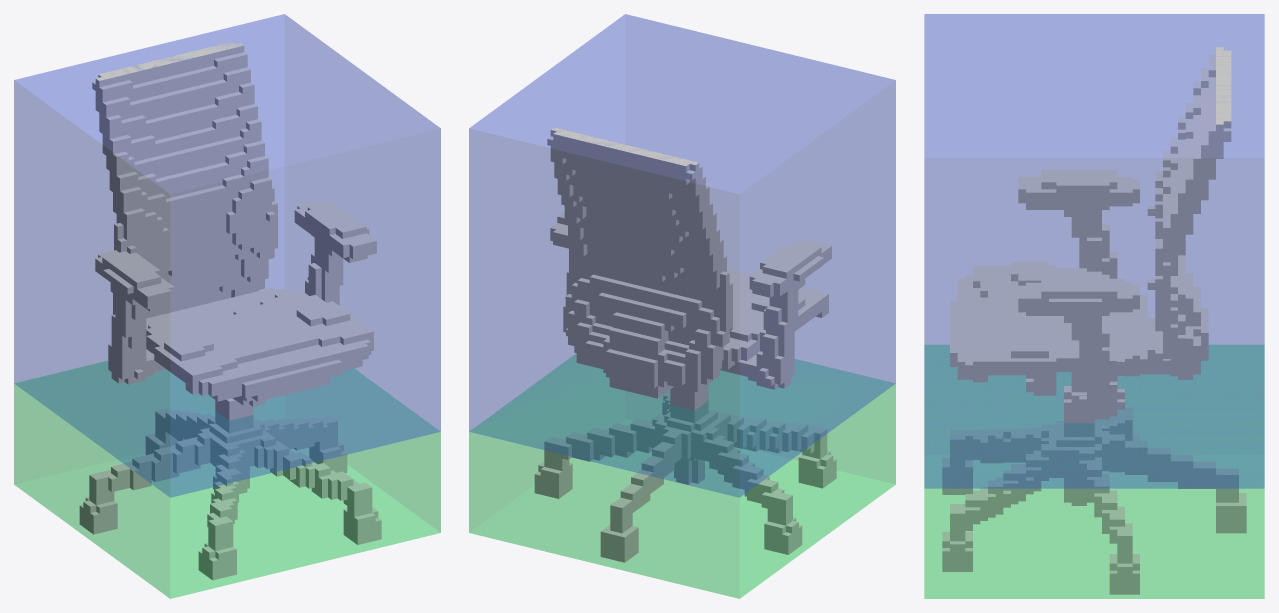
The model's file is space-segmentation.glb.
3 views of the same model, side by side, from view 1: azimuth 30°, elevation 25°; view 2: azimuth 150°, elevation 25°; view 3: azimuth 270°, elevation 25° (orthographic). The views are drawn at different scales.
Parts seen in each view (by area): view 1: Cube, geometry_0.002, Cube.001; view 2: Cube, Cube.001, geometry_0.002; view 3: Cube, Cube.001, geometry_0.002.
Boxes of the visible parts, x1,y1,x2,y2 form: Cube: (14,14,440,497); geometry_0.002: (79,42,381,580); Cube.001: (14,361,440,598); Cube: (469,14,895,497); Cube.001: (469,354,895,598); geometry_0.002: (534,127,836,562); Cube: (924,14,1264,488); Cube.001: (924,345,1264,598); geometry_0.002: (942,47,1246,594).
Bounding box in the file's own units: 0.7 × 1 × 0.7.
